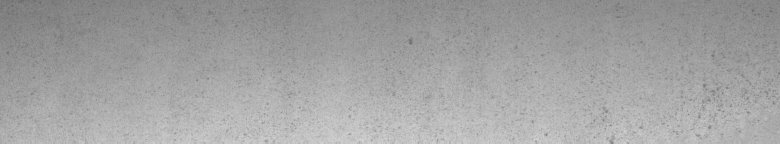ib: (676, 53, 775, 136)
